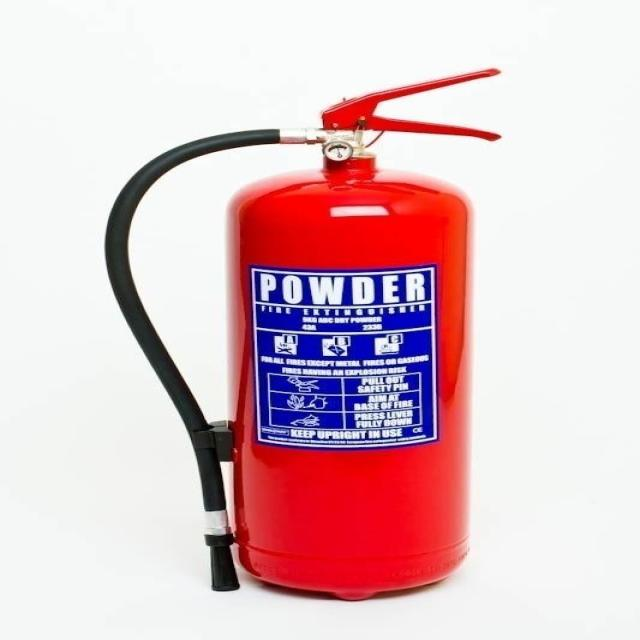fire_extinguisher: (98, 64, 507, 614)
